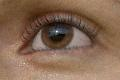eye: (43, 23, 72, 48)
